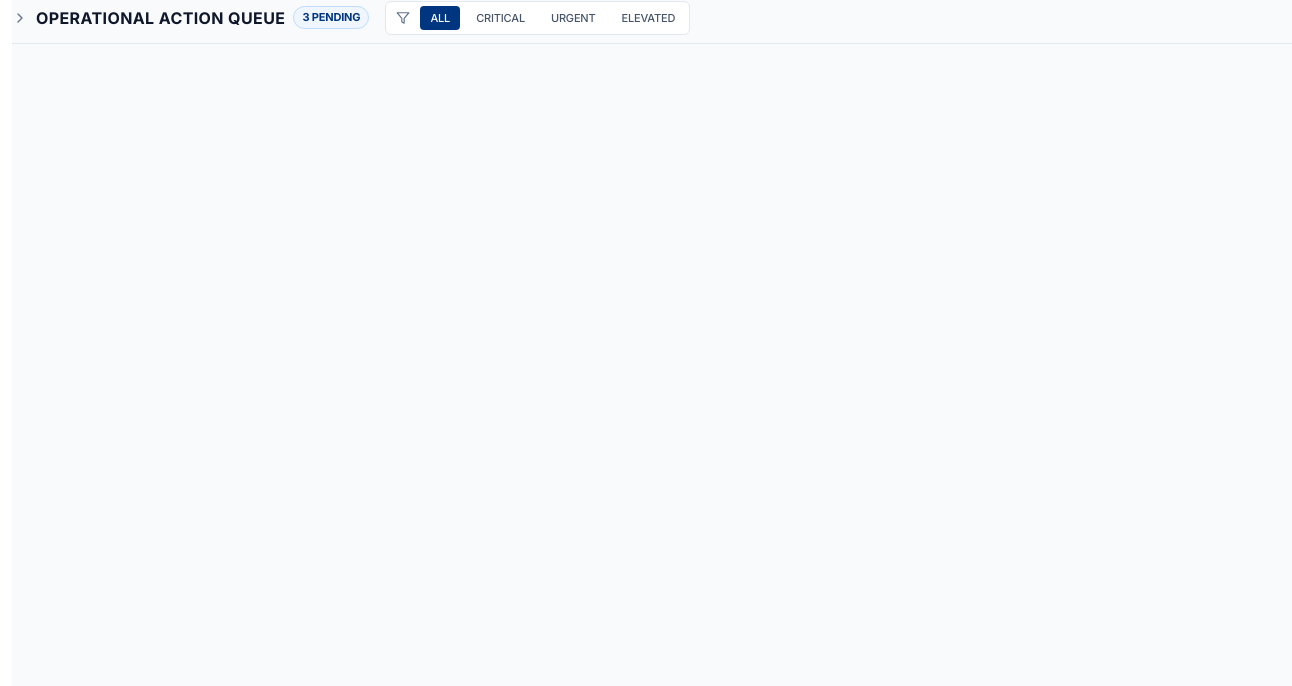
Homepage Comprehensive Function Audit (http://localhost:3000/) › 3. Operational Action Center Functions › executes ACT now flow and updates action status to in-progress
Expand queue
Click the heading "OPERATIONAL ACTION QUEUE".
click(161, 18)  # box [36,6,285,30]
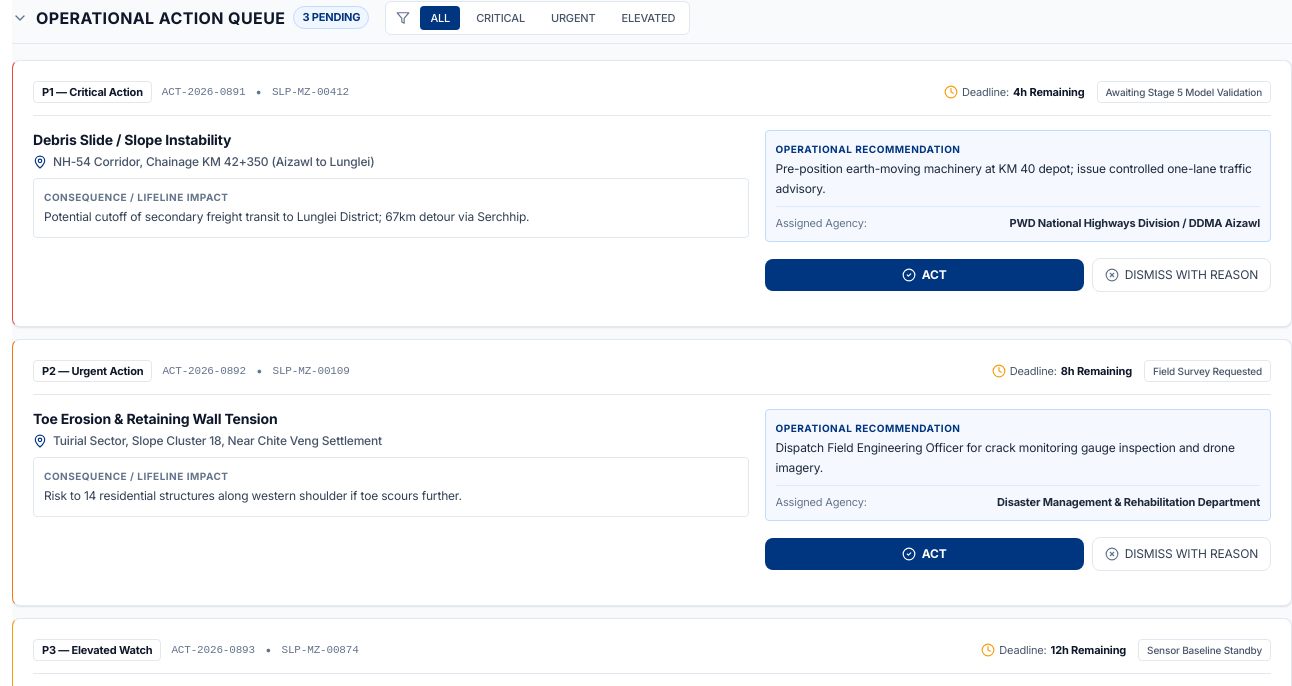
Click ACT on first action
Click the button with aria-label "Execute action".
click(924, 275)  # box [764,259,1084,291]
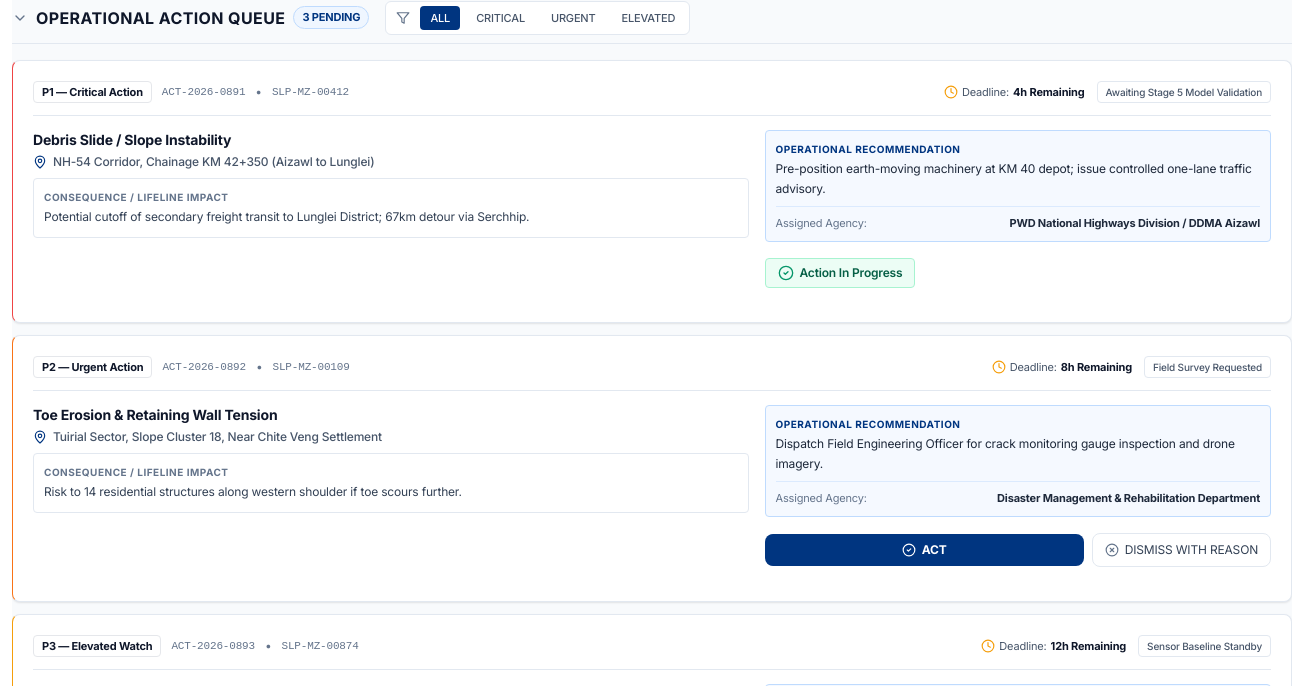
Expected: the text "Action In Progress" is shown, [800,265,902,281]
